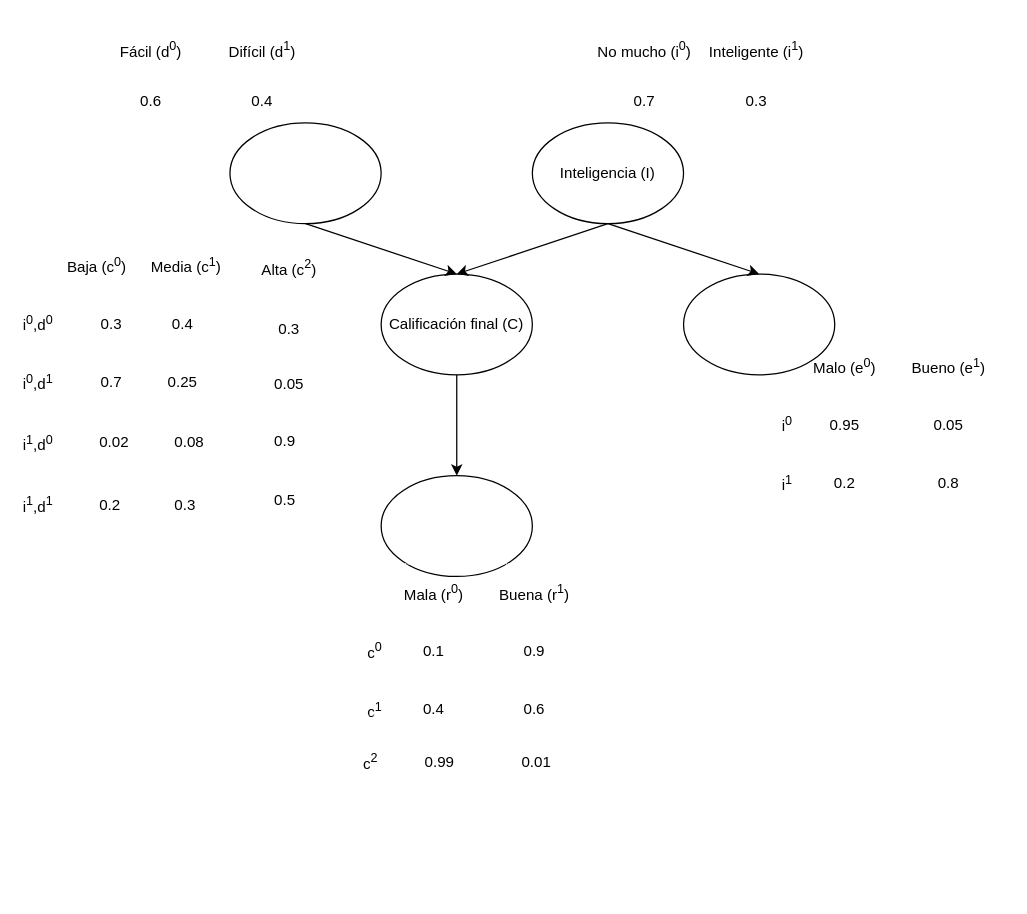
Some shapes in this 1027 by 914 pixel diagram are drawn without their labels. Here are the shapes that lost their labels. From the top down, the centre of each, then its label:
At pixel 305 173: "Dificultad (D)".
At pixel 758 324: "puntaje Prueba estatal (P)".
At pixel 456 525: "carta de Recomendación (R)".
